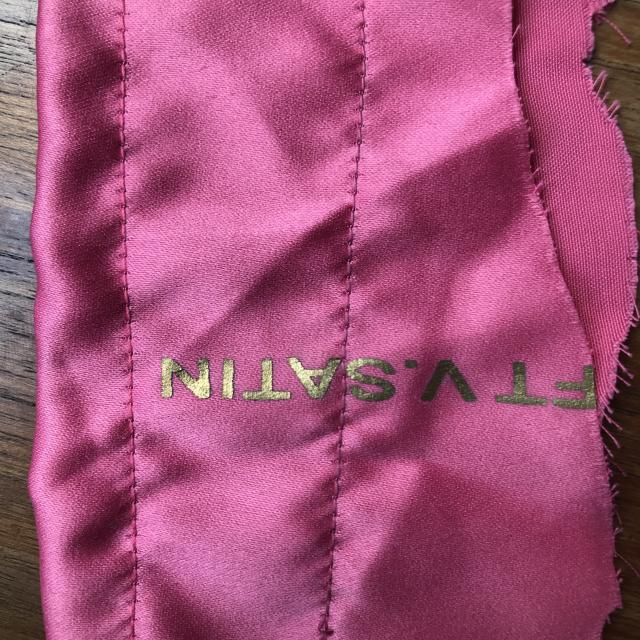good: (105, 224, 158, 357)
